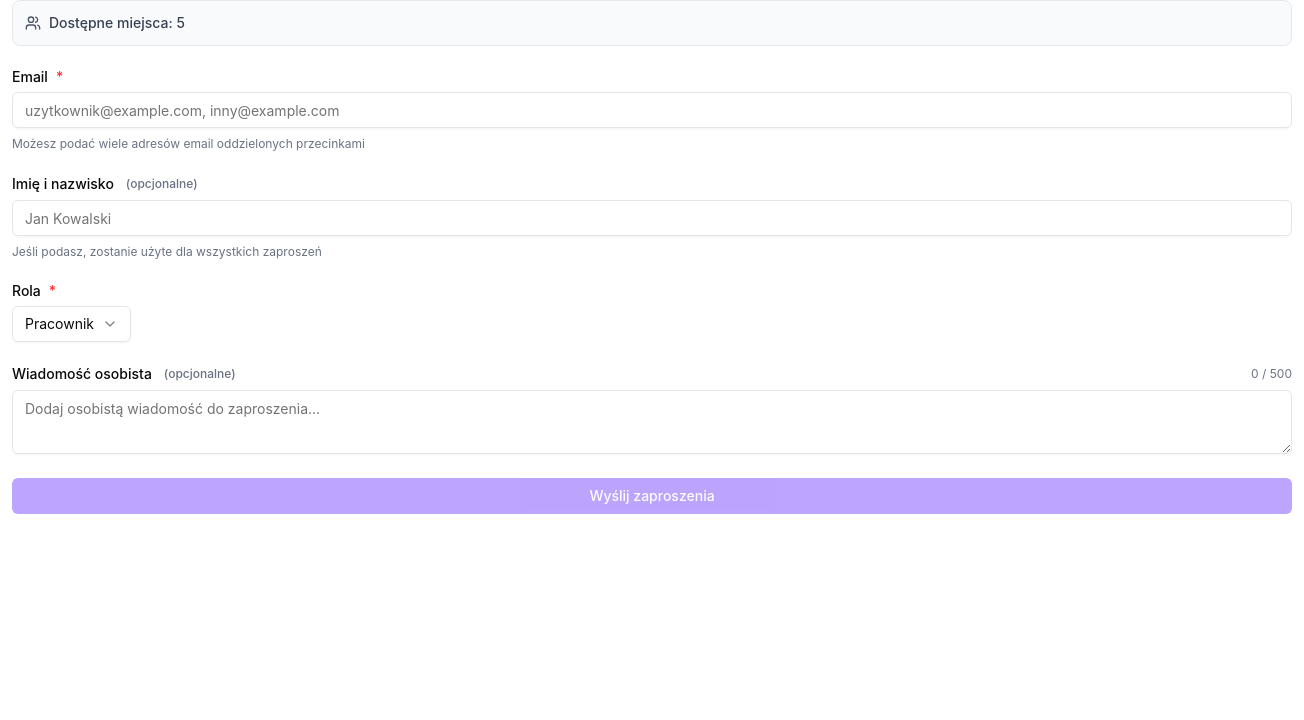
Test case: InvitationForm › Email Input › should show validation error for duplicate emails
The image size is (1304, 720).
Type "test@example.com, test@example.com" into the field labelled "Email *" at (652, 110), box [12,92,1292,128]
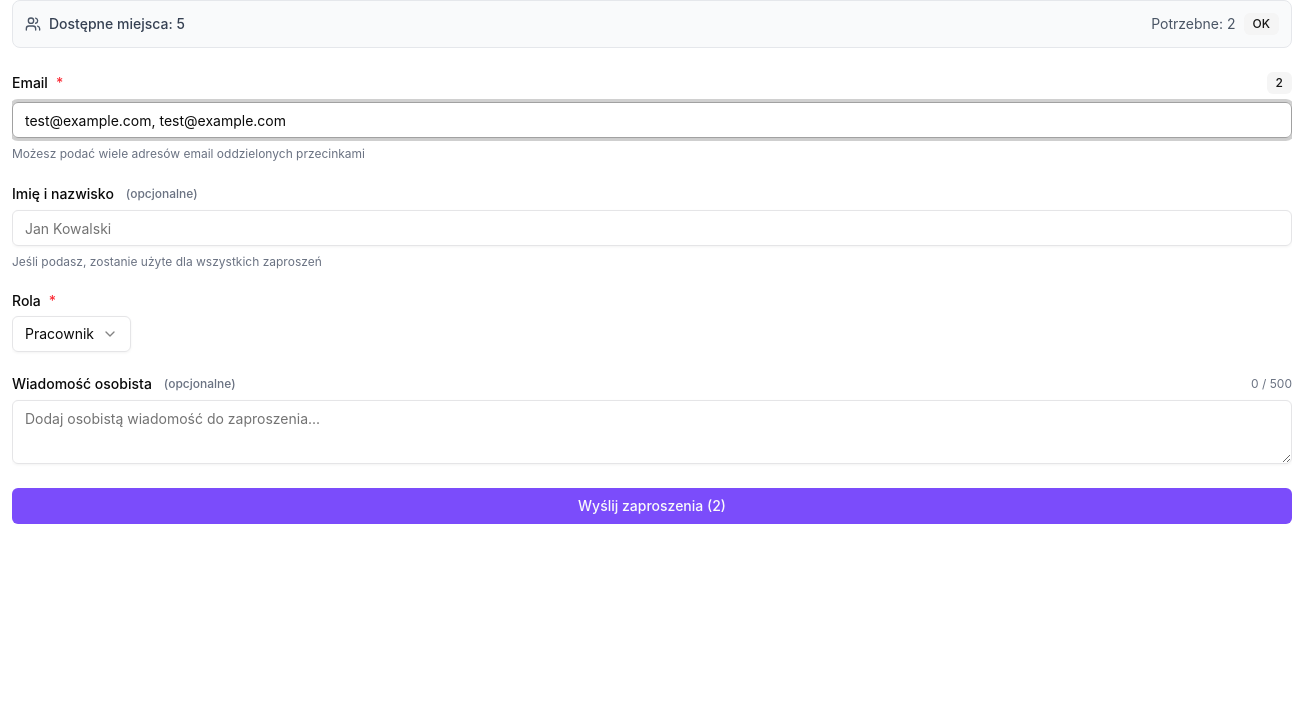
Click the button "Wyślij zaproszenia (2)" at (652, 506), box [12,488,1292,524]
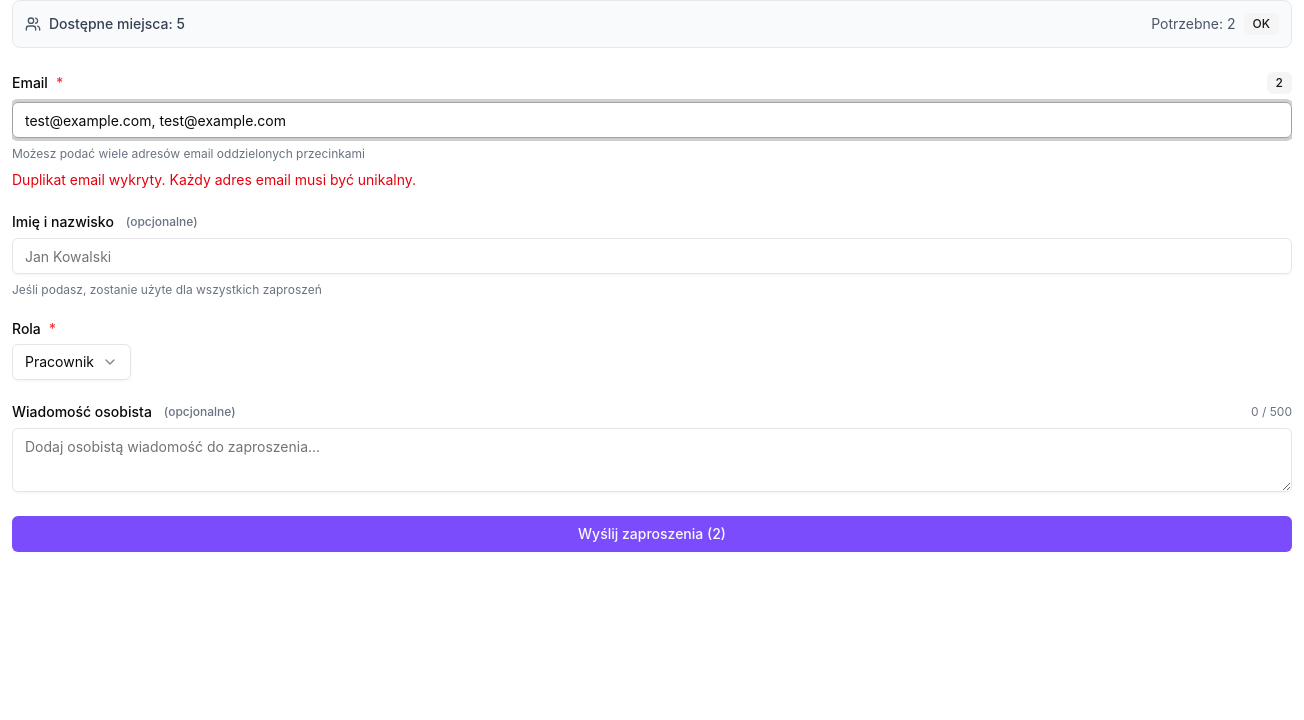
Result: the text "Duplikat email wykryty. Każdy adres email musi być unikalny." is shown at [12,171,416,188]
